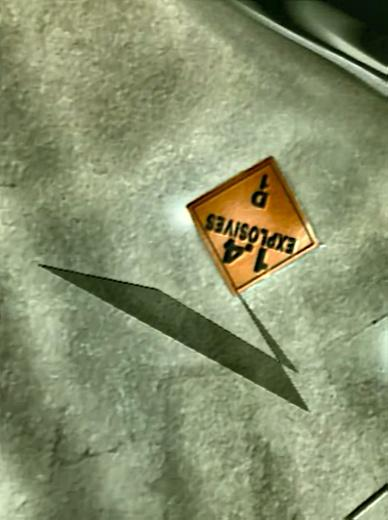explosive: (187, 155, 323, 297)
